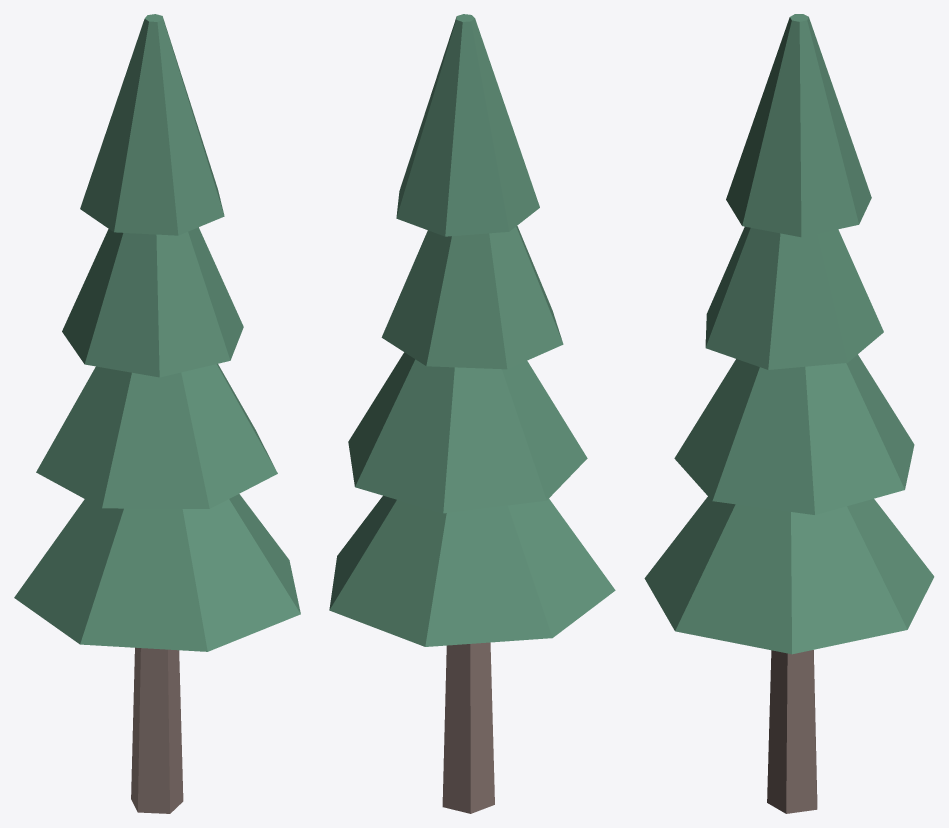
Rendered from arv_pinheiro_1_sem_textura.glb.
3 views of the same model, side by side, from view 1: azimuth 30°, elevation 25°; view 2: azimuth 150°, elevation 25°; view 3: azimuth 270°, elevation 25° (orthographic).
Visible parts, largest first — view 1: arv_pinheiro_1; view 2: arv_pinheiro_1; view 3: arv_pinheiro_1.
Part boxes in pixels (<box>): arv_pinheiro_1: <box>14,14,300,813</box>; arv_pinheiro_1: <box>329,14,615,813</box>; arv_pinheiro_1: <box>644,14,934,813</box>.
Size of the model in its own units: 0.8699 by 2.66 by 0.8893.
